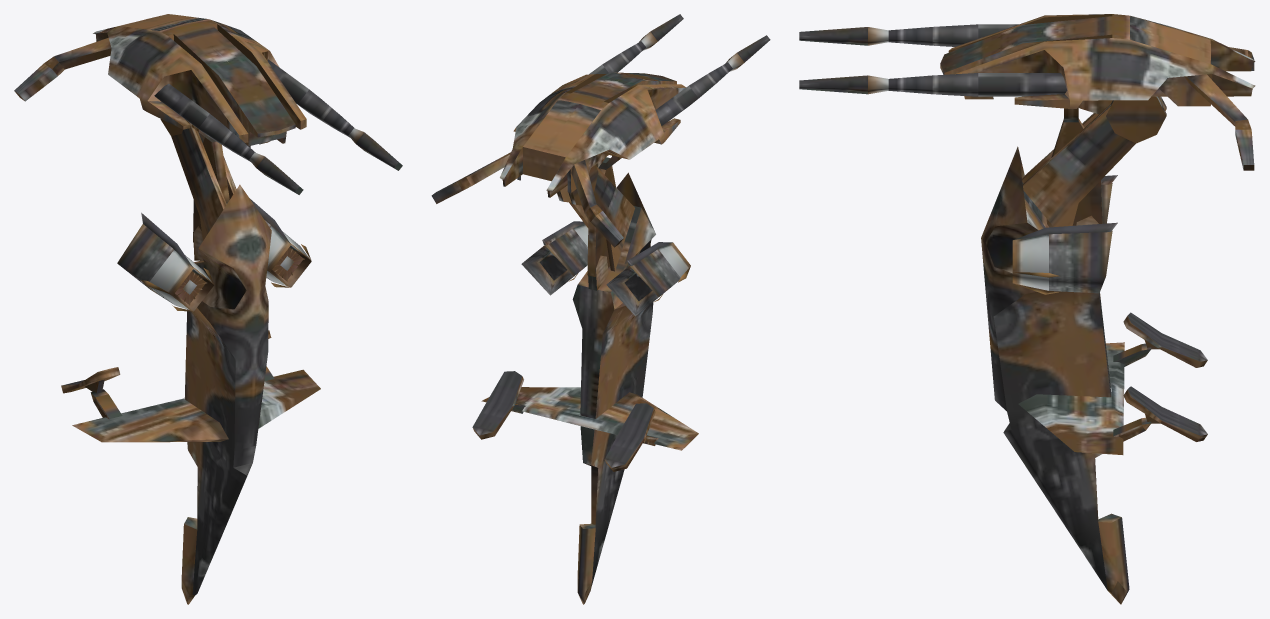
File: stap.far.glb
3 views of the same model, side by side, from view 1: azimuth 30°, elevation 25°; view 2: azimuth 150°, elevation 25°; view 3: azimuth 270°, elevation 25° (orthographic). The views are drawn at different scales.
Size of the model in its own units: 0.7523 by 1.8 by 1.29.
1 material, 1 textured.
